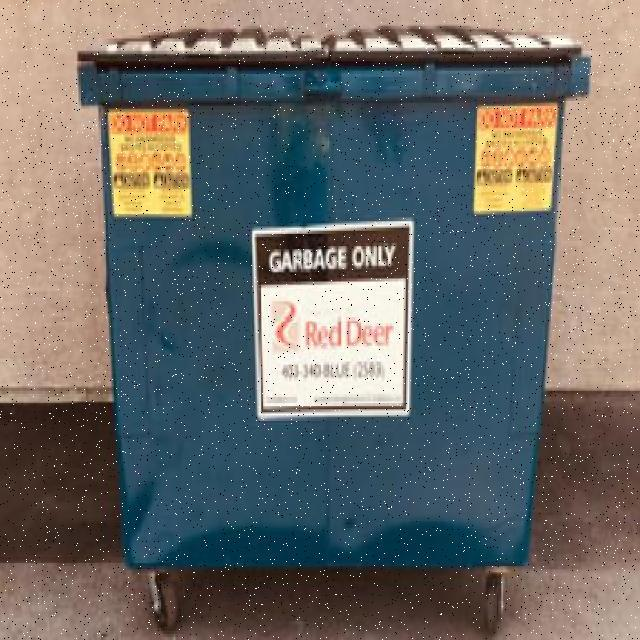garbage container: (76, 23, 604, 637)
